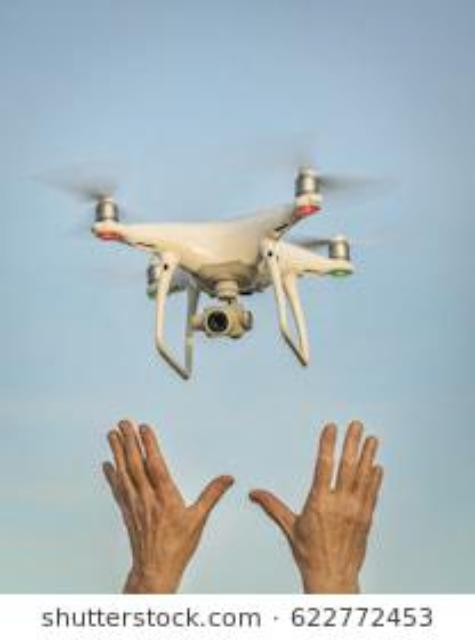drone: (0, 114, 422, 396)
